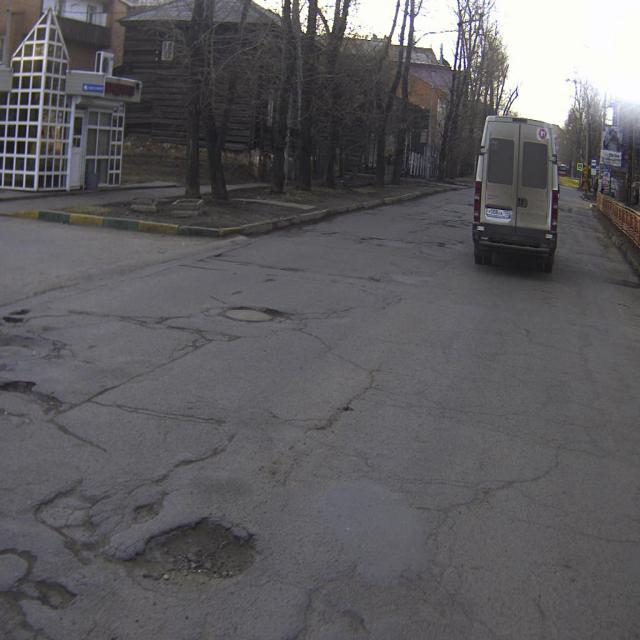road: (0, 186, 640, 639)
